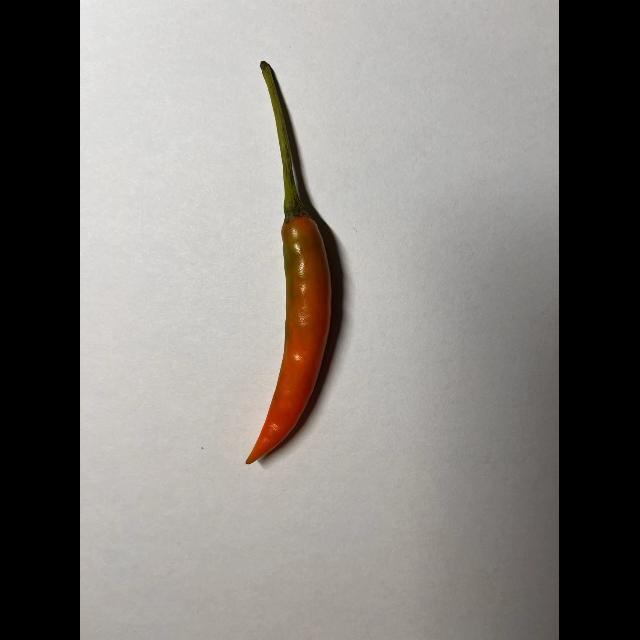chili_pepper: (234, 59, 353, 468)
